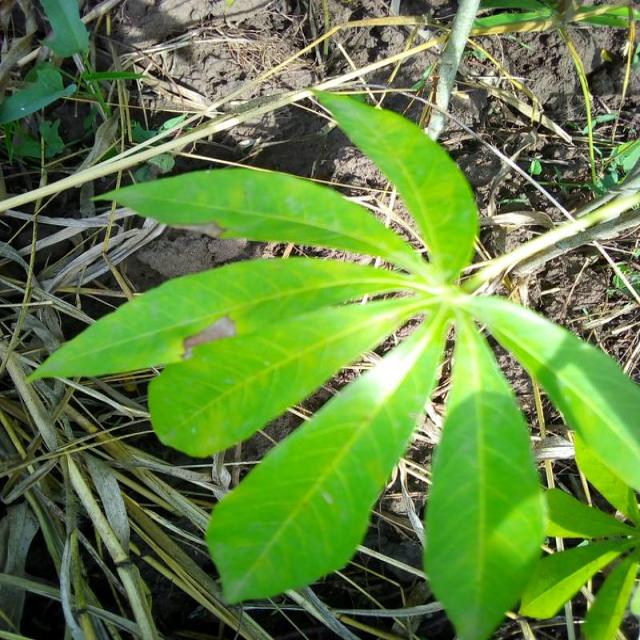cassava leaf: (24, 86, 638, 637), (204, 310, 446, 606), (422, 307, 546, 638), (310, 86, 479, 284)
